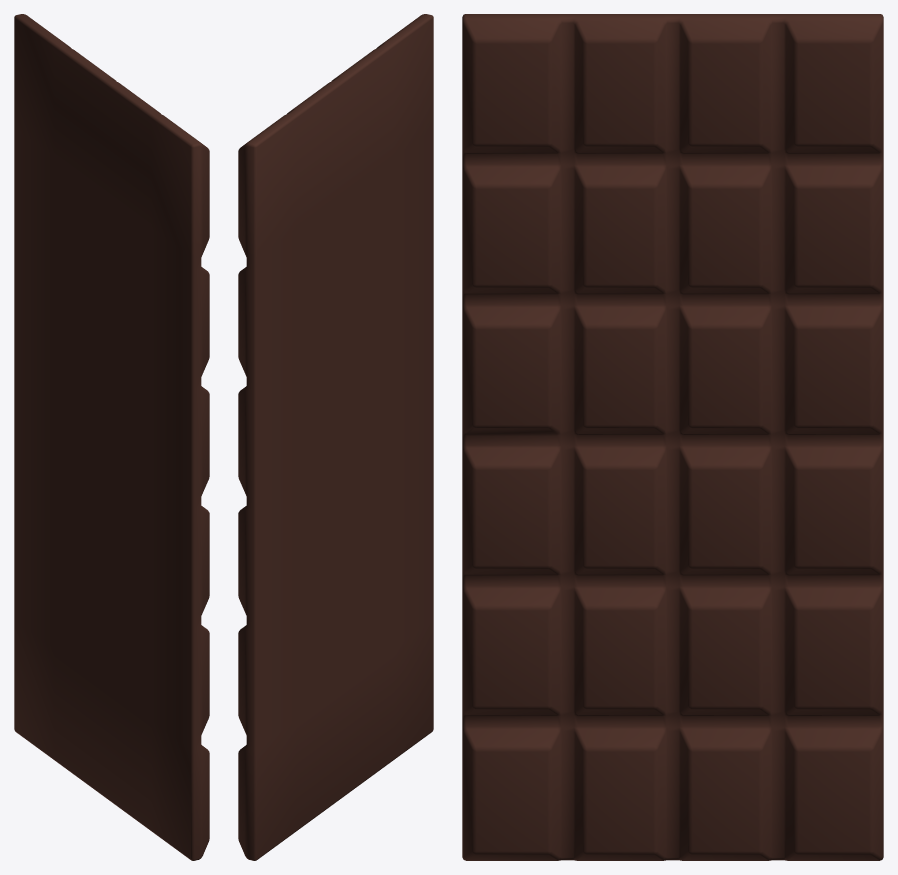
Rendered from choco.obj.
3 renders of one model, left to right at view 1: azimuth 30°, elevation 25°; view 2: azimuth 150°, elevation 25°; view 3: azimuth 270°, elevation 25°, orthographic. The views are drawn at different scales.
Visible parts, largest first — view 1: Chocolate_milk; view 2: Chocolate_milk; view 3: Chocolate_milk.
Part boxes in pixels (bbox=[...]): Chocolate_milk: bbox=[14, 14, 209, 860]; Chocolate_milk: bbox=[238, 14, 433, 860]; Chocolate_milk: bbox=[462, 14, 883, 860].
Bounding box in the file's own units: 0.00668 × 0.1999 × 0.0904.
